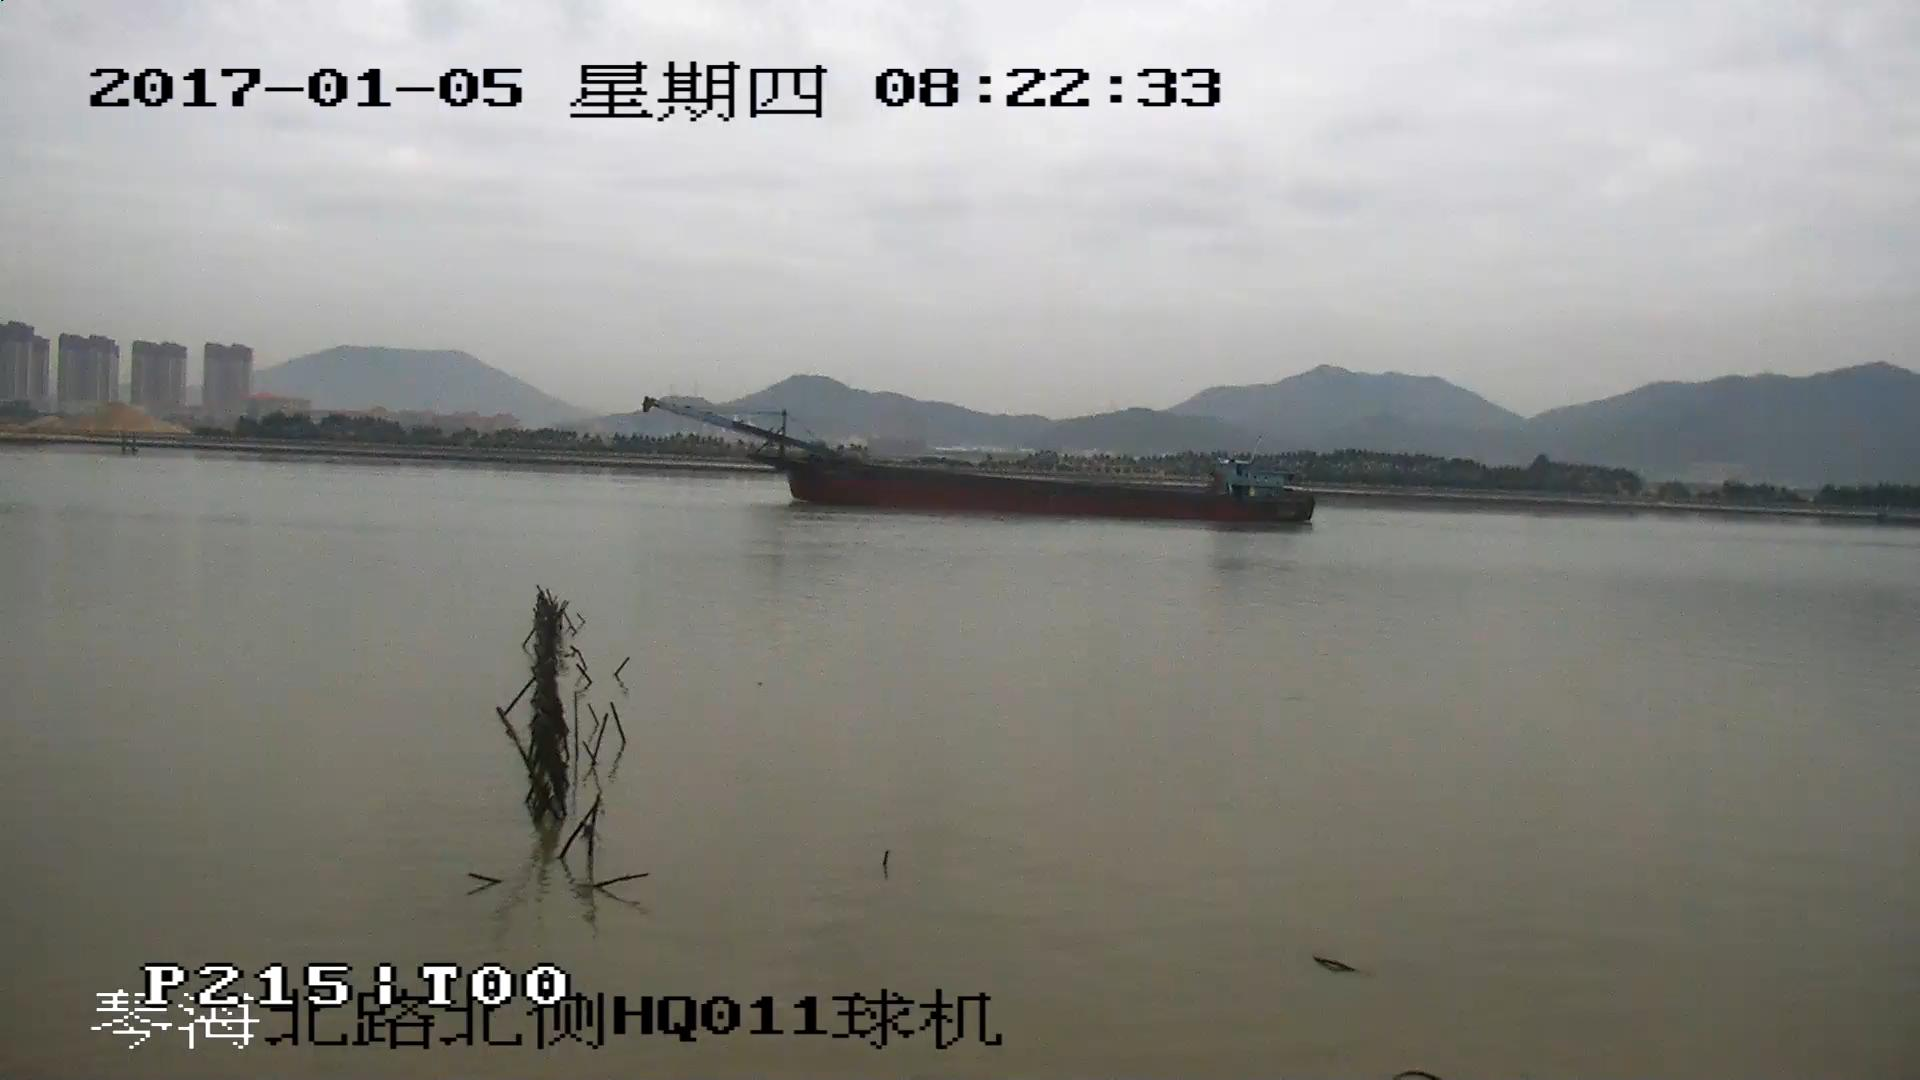bulk cargo carrier: (647, 402, 1318, 524)
